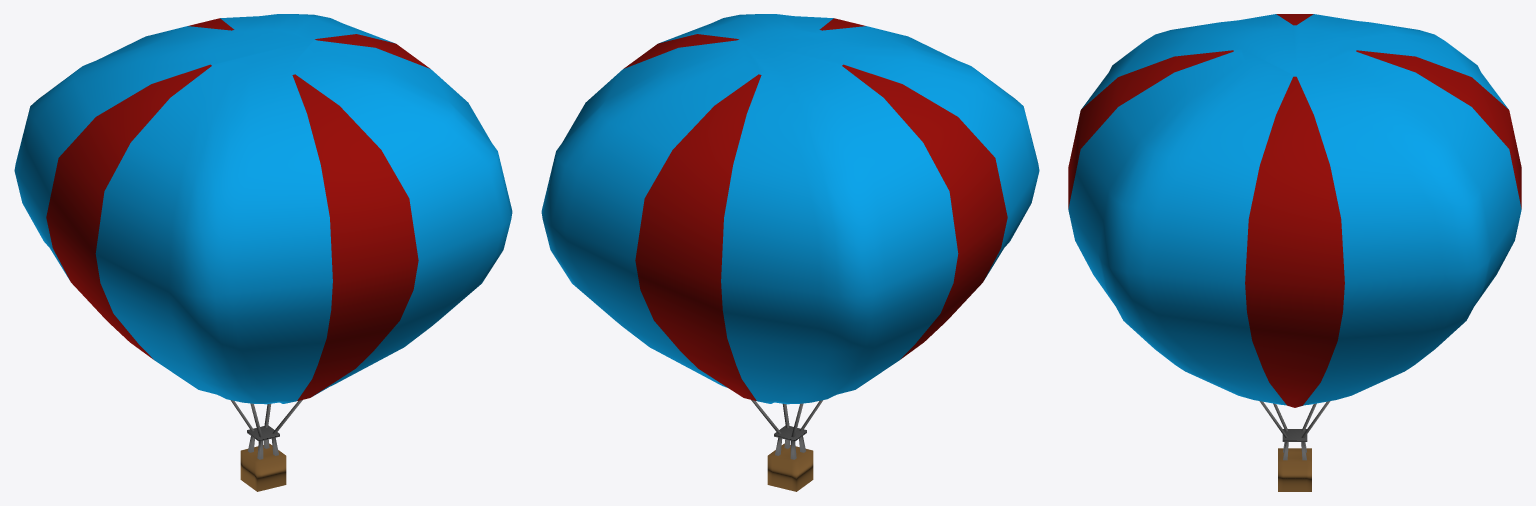
Rendered from hotairballoon.fbx.
3 views of the same model, side by side, from view 1: azimuth 30°, elevation 25°; view 2: azimuth 150°, elevation 25°; view 3: azimuth 270°, elevation 25° (orthographic).
Visible parts, largest first — view 1: hot_air_balloon; view 2: hot_air_balloon; view 3: hot_air_balloon.
Boxes of the visible parts, x1=… form: hot_air_balloon: x1=14, y1=14, x2=512, y2=491; hot_air_balloon: x1=541, y1=14, x2=1039, y2=491; hot_air_balloon: x1=1068, y1=14, x2=1521, y2=491.
Size of the model in its own units: 427 by 455 by 431.
